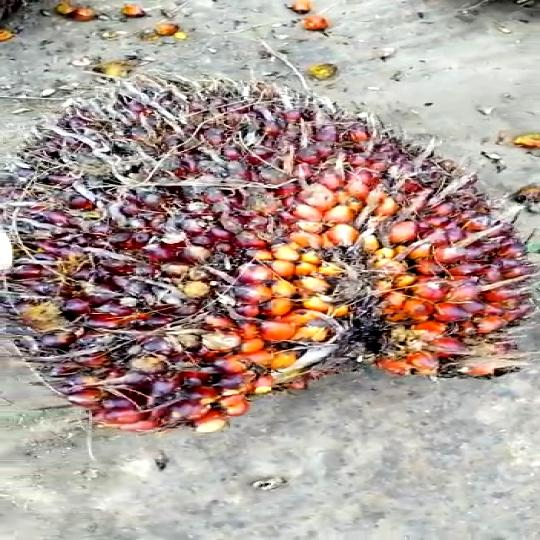masak: (0, 73, 540, 438)
